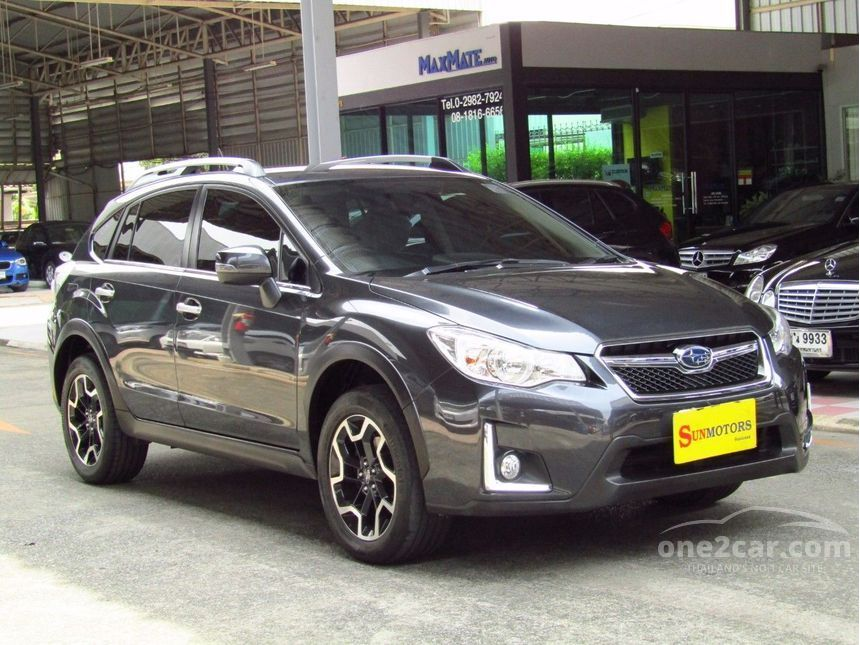pickup: (43, 153, 816, 565)
